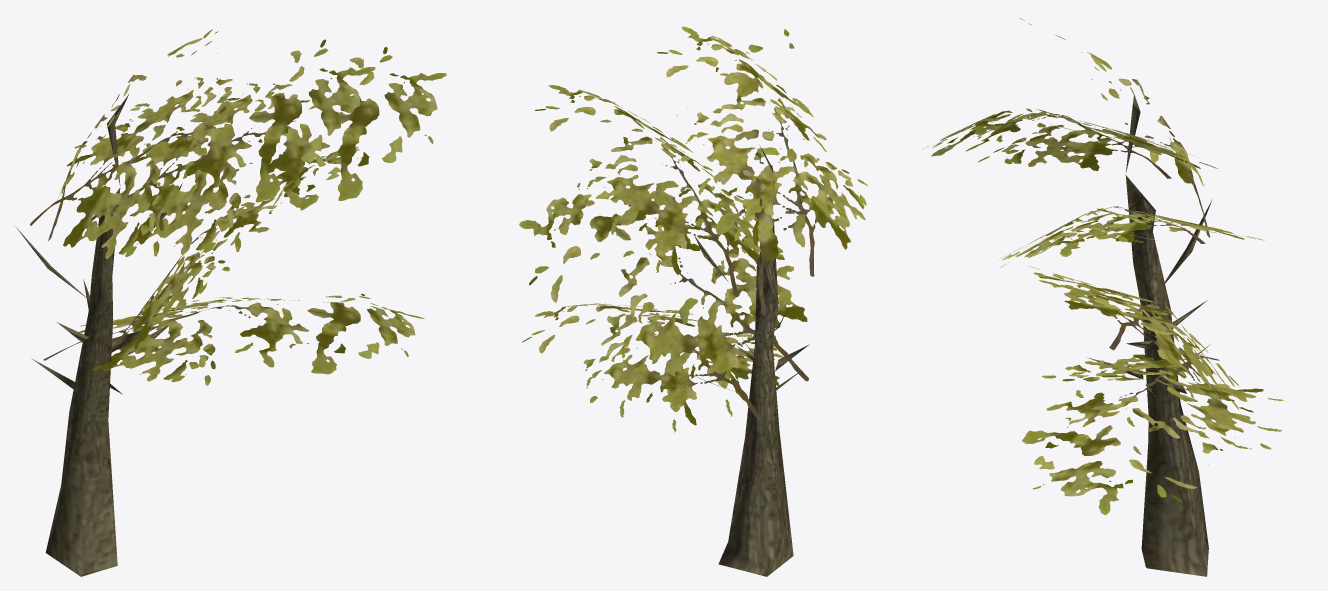
The picture shows the model from 3 angles, left to right: view 1: azimuth 30°, elevation 25°; view 2: azimuth 150°, elevation 25°; view 3: azimuth 270°, elevation 25°; orthographic projection. The views are drawn at different scales.
Parts seen in each view (by area): view 1: treelarge; view 2: treelarge; view 3: treelarge.
Boxes of the visible parts, x1=… form: treelarge: x1=15, y1=29, x2=446, y2=576; treelarge: x1=519, y1=26, x2=867, y2=576; treelarge: x1=922, y1=18, x2=1284, y2=576.
Size of the model in its own units: 8.81 by 12.19 by 7.83.
Materials: 1 (1 with a texture image).
